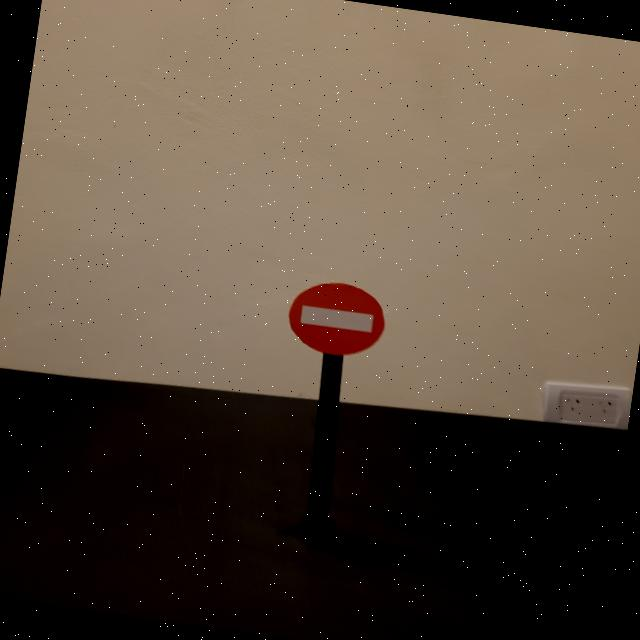no_entry: (284, 276, 391, 362)
